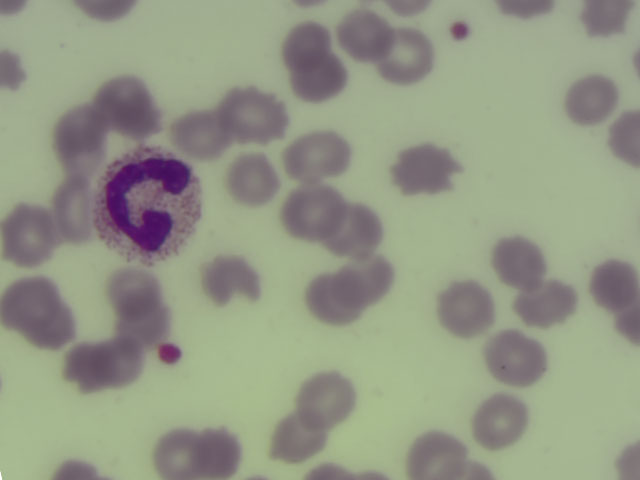Platelets: (154, 339, 186, 370), (448, 17, 474, 47)
RBC: (47, 177, 97, 243), (587, 257, 640, 318), (406, 432, 473, 479), (223, 91, 286, 140), (397, 144, 452, 196), (473, 394, 528, 446), (490, 332, 545, 384), (517, 277, 572, 329), (491, 234, 546, 286), (438, 282, 493, 334), (562, 74, 617, 126), (290, 129, 345, 181), (380, 29, 435, 81), (336, 7, 391, 59), (293, 55, 348, 107), (277, 17, 332, 69), (301, 372, 356, 424), (270, 415, 325, 467), (150, 428, 205, 480), (302, 272, 357, 324), (340, 250, 395, 302), (327, 200, 382, 252), (284, 184, 339, 236), (223, 153, 278, 205), (168, 106, 223, 158), (201, 254, 256, 306), (105, 262, 160, 314), (115, 300, 170, 352), (91, 338, 146, 390), (57, 342, 112, 394), (20, 302, 75, 354), (56, 110, 111, 162), (103, 78, 158, 130), (1, 276, 55, 328), (1, 209, 55, 261), (189, 428, 244, 479), (605, 108, 640, 167), (577, 1, 631, 34), (71, 1, 135, 28), (46, 452, 107, 479), (1, 46, 31, 99), (611, 436, 640, 479)
WBC: (94, 147, 198, 262)
